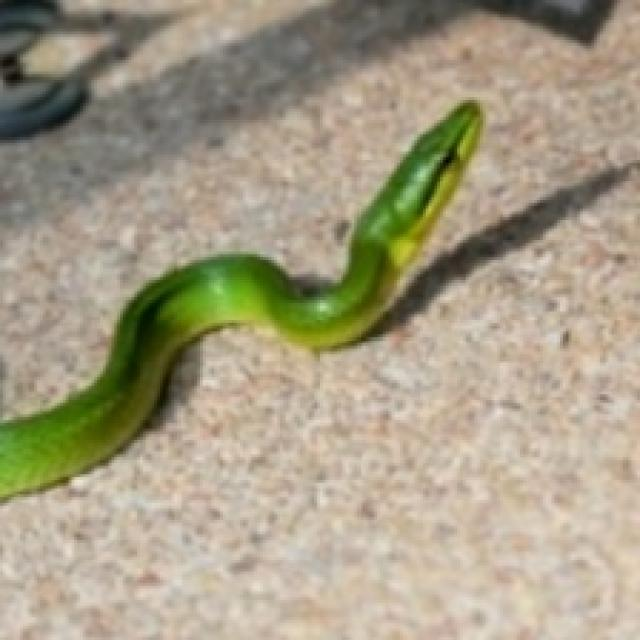red-tailed green ratsnake: (0, 102, 480, 498)
